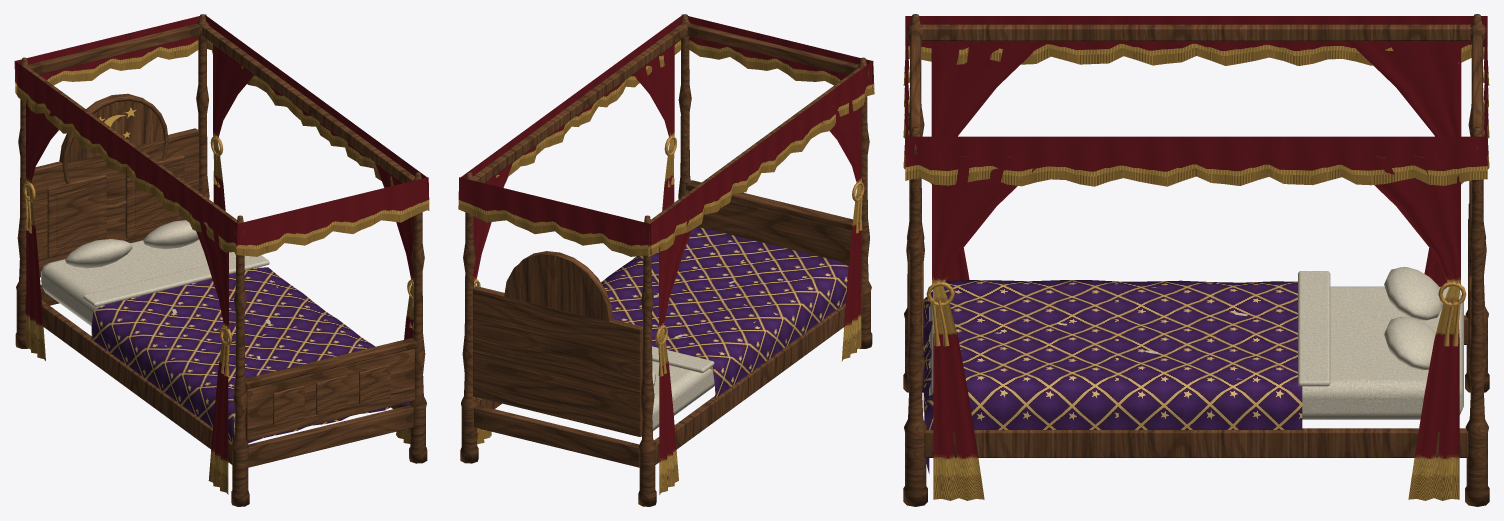
File: prop_canopyBed.glb
3 views of the same model, side by side, from view 1: azimuth 30°, elevation 25°; view 2: azimuth 150°, elevation 25°; view 3: azimuth 270°, elevation 25° (orthographic). The views are drawn at different scales.
Visible parts, largest first — view 1: prop; view 2: prop; view 3: prop.
Boxes of the visible parts, <box> form: prop: <box>14,14,429,506</box>; prop: <box>458,14,874,506</box>; prop: <box>903,14,1489,506</box>.
Size of what is drawn, in the model's own units: 0.994 by 1.4 by 1.99.
Materials: 6 (6 with a texture image).
